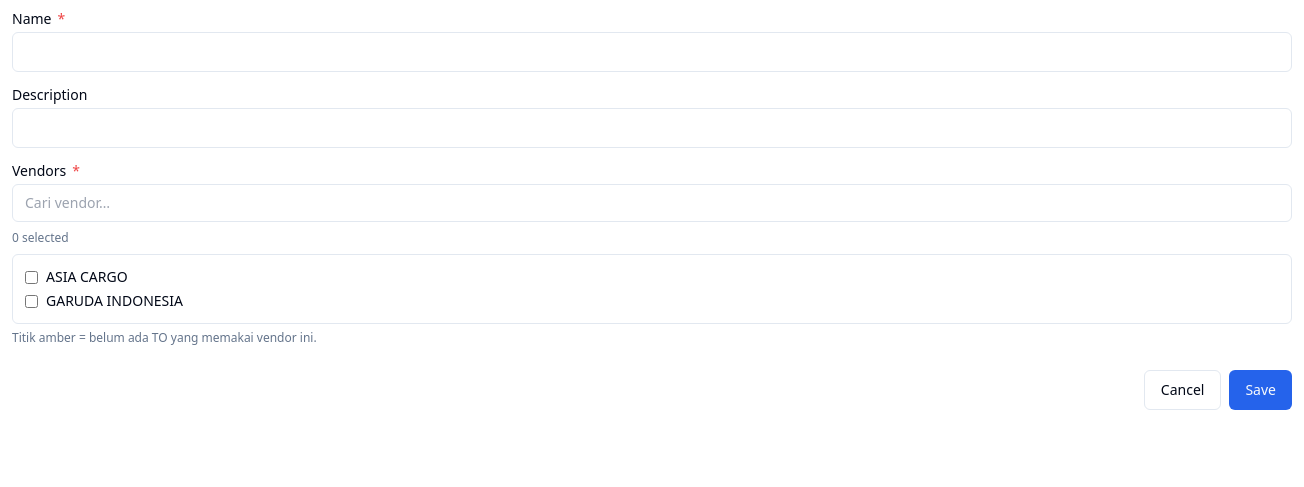
surfaces the backend message when the submit rejects
Type "Maskapai" into the field labelled "Name *" at (652, 52), box [12,32,1292,72]
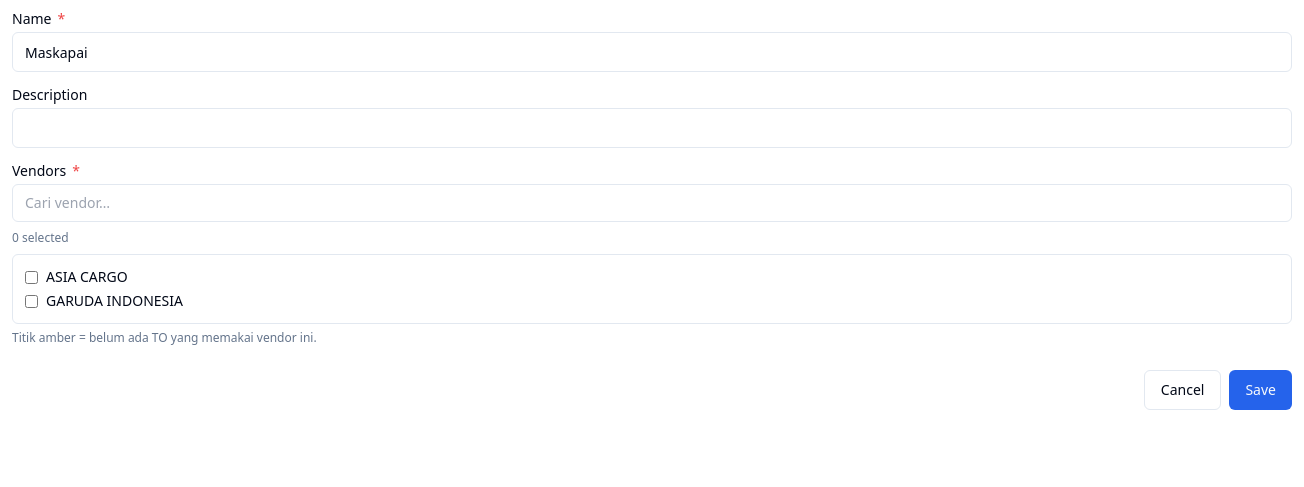
Click the checkbox labelled "GARUDA INDONESIA" at (32, 301), box [25,294,38,308]
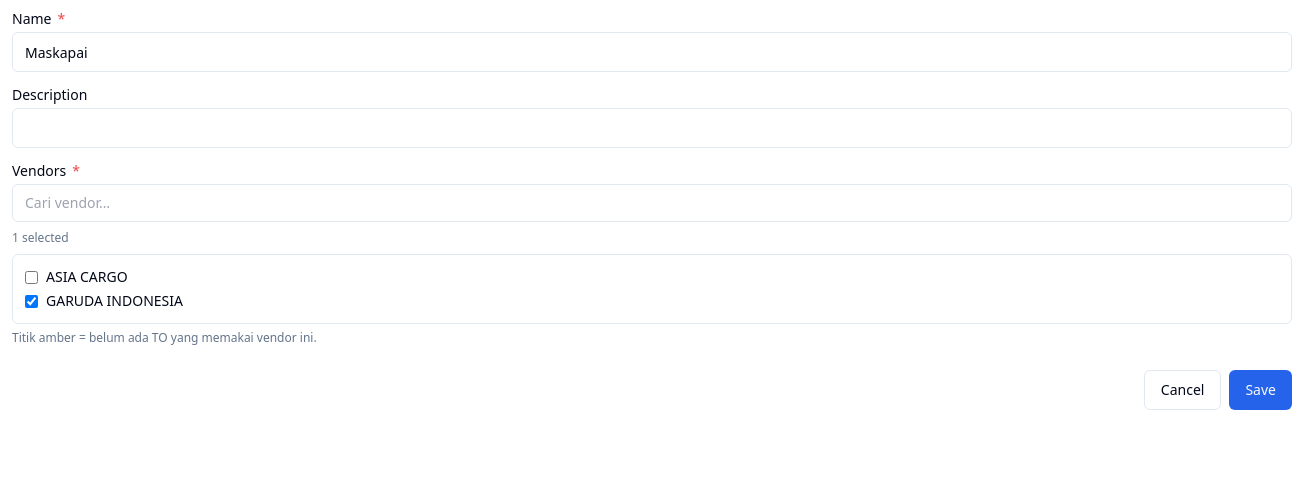
Click the button "Save" at (1261, 390), box [1229,370,1292,410]
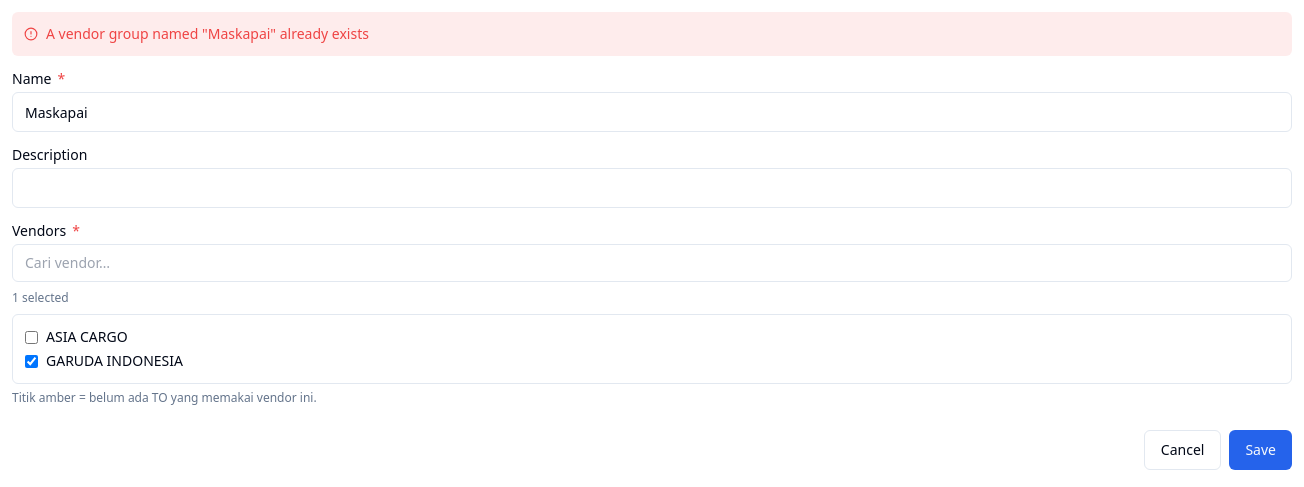
Expected: the text "A vendor group named \"Maskapai\" already exists" is shown, [12,12,1292,56]
